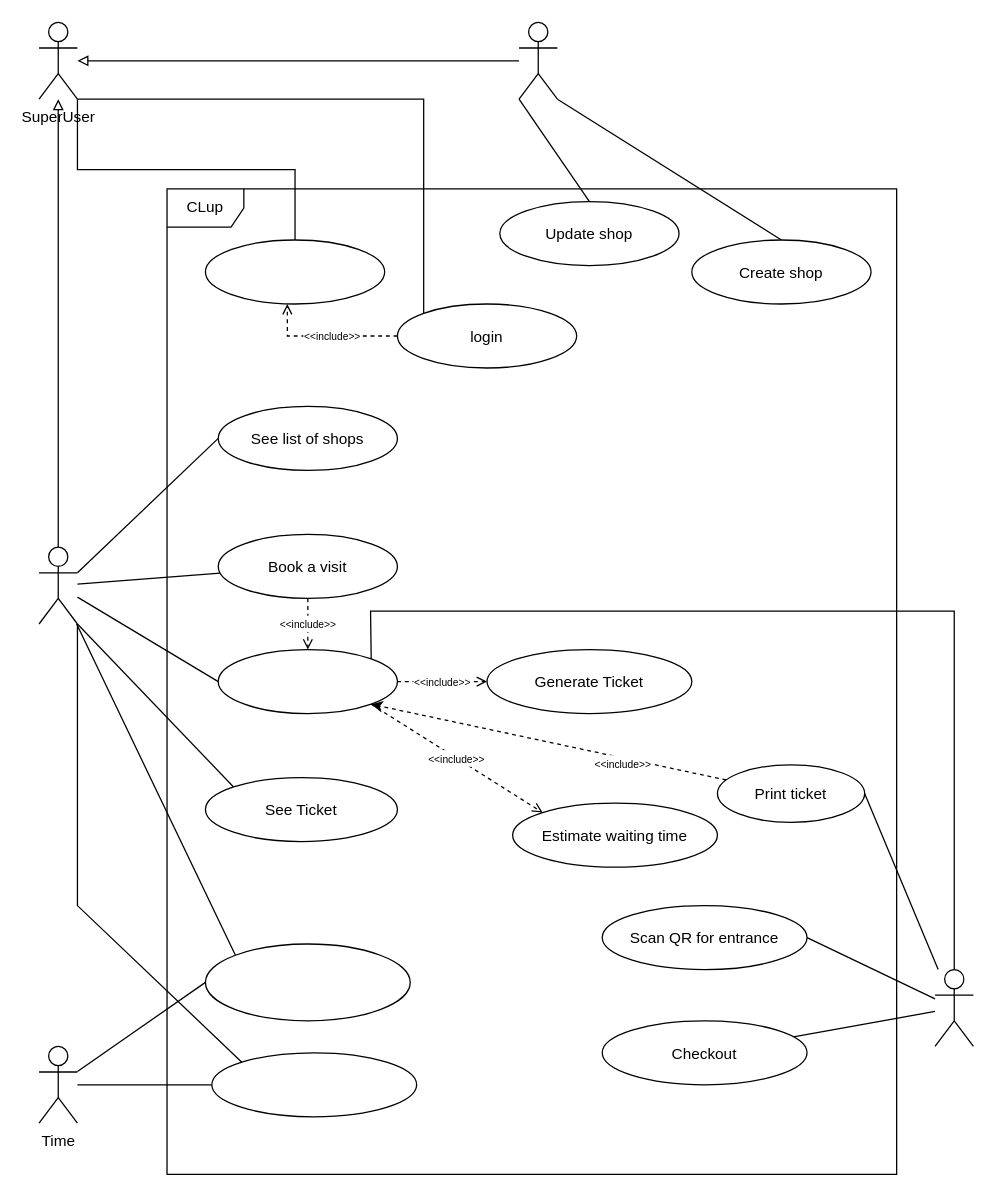
Image size: 998x1197. Some labels were removed from this diagram. The shapes that lost their labels are listed below. From the top down, each one's centre as x and y in pixels, then its label:
At point (537, 60): "Manager".
At point (294, 271): "Register".
At point (57, 585): "User".
At point (307, 681): "Add to Line-up Queue".
At point (307, 982): "Notify user for approach".
At point (953, 1007): "Clerck".
At point (314, 1084): "Notify user for Entrance".
